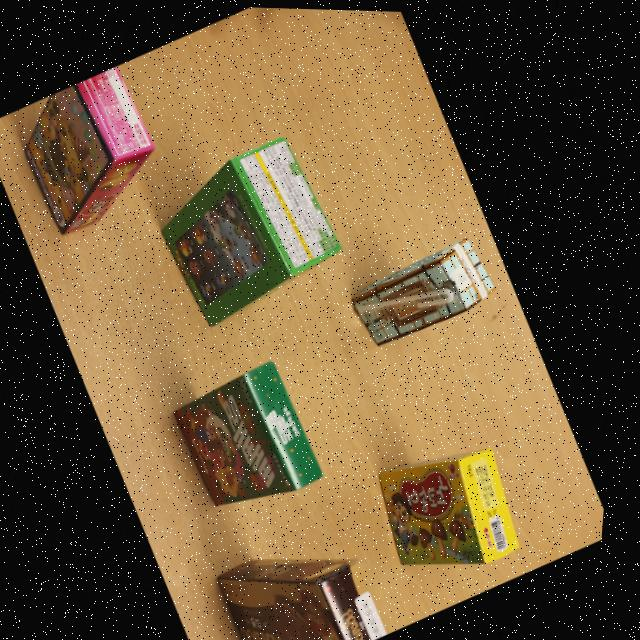box: (164, 133, 346, 323), (180, 358, 329, 503), (26, 64, 155, 231), (387, 444, 527, 561), (357, 233, 499, 341), (227, 557, 400, 640)
